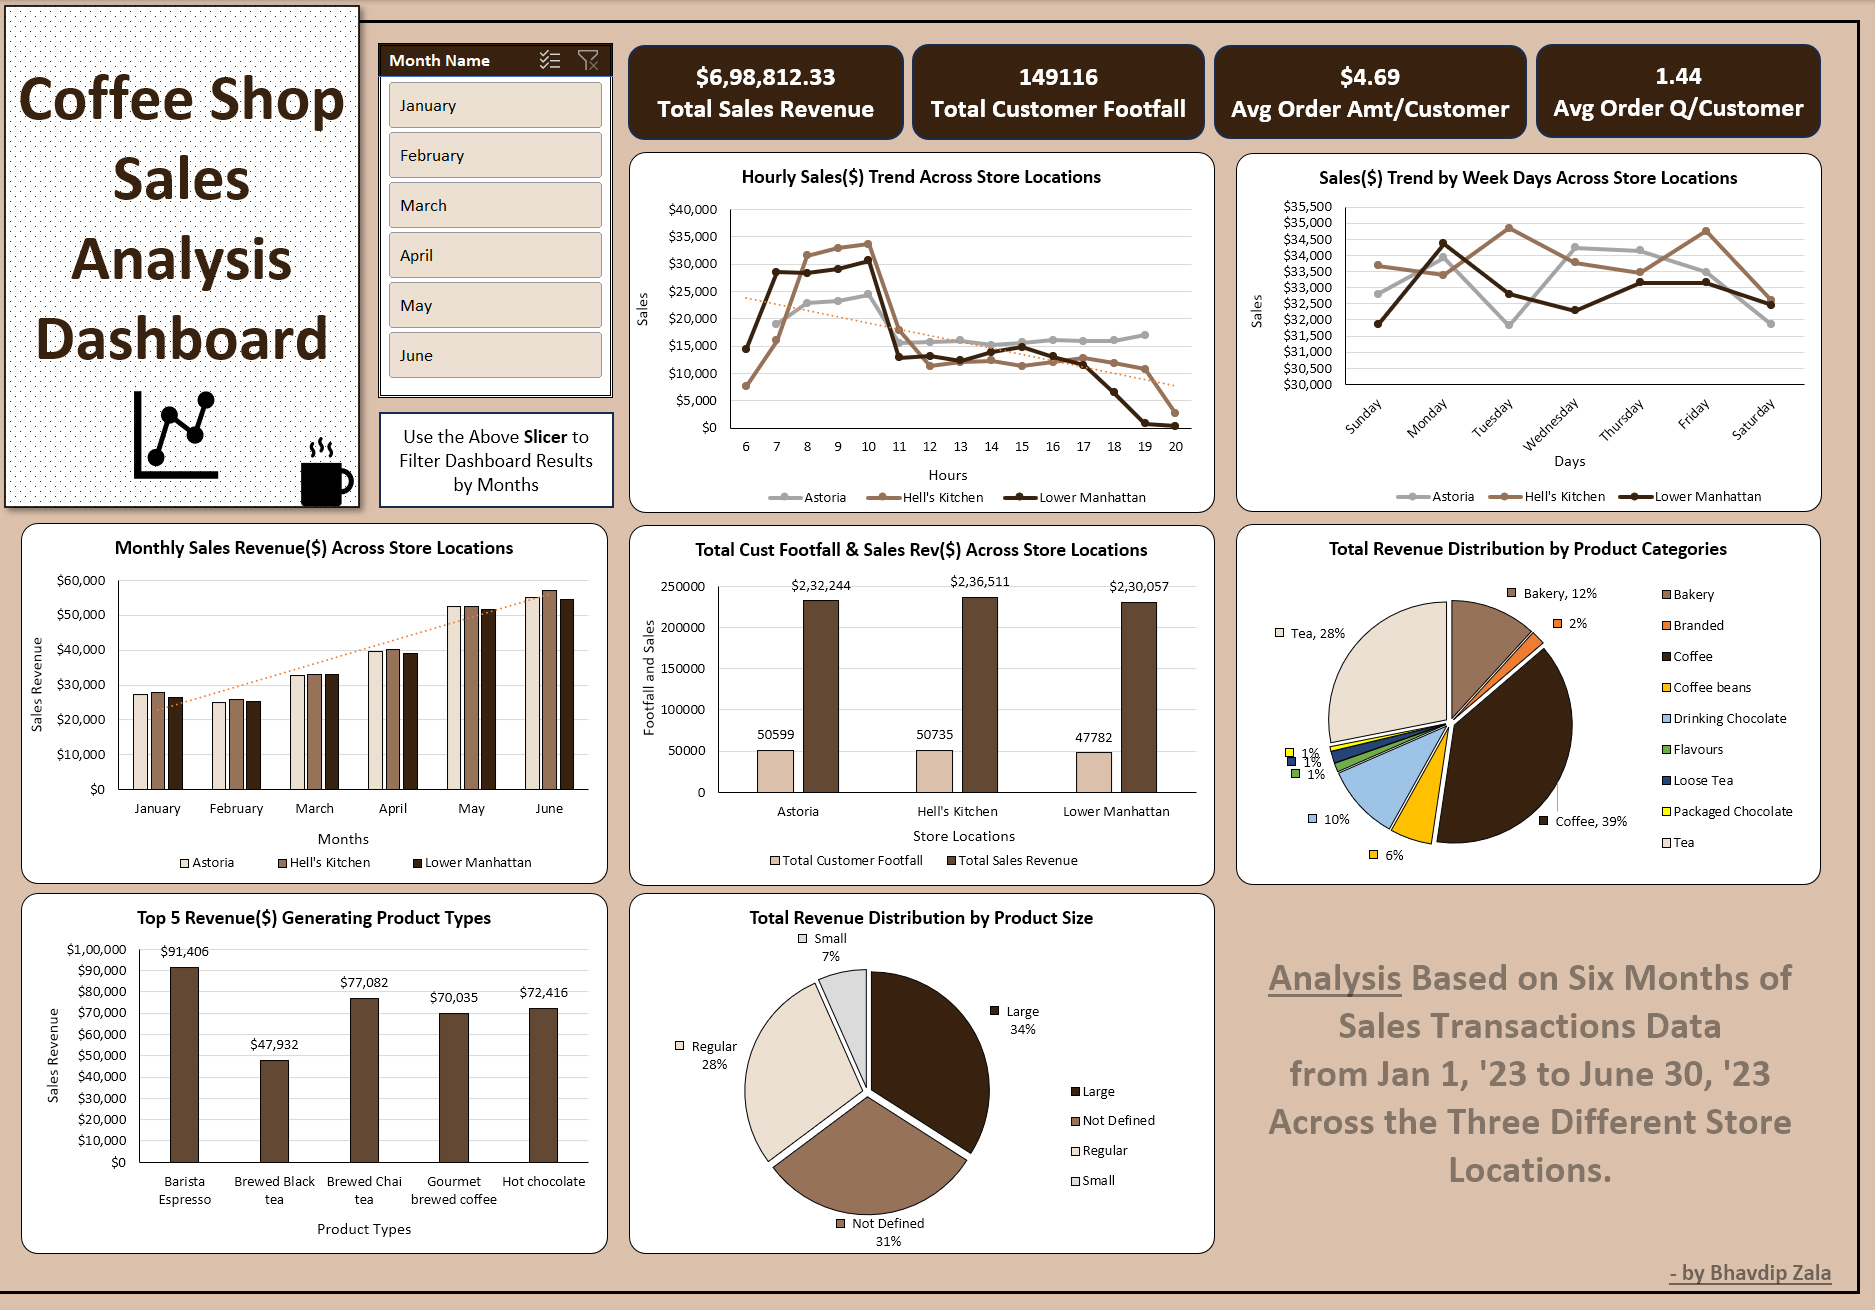

The dashboard page shown, as its layout file describes it:
{"tool":"powerbi","page":{"name":"Dashboard","canvas":[1745,1025],"ordinal":0},"visuals":[{"type":"shape","box":[0,166.2,15.4,853],"z":0},{"type":"shape","box":[300,5,1438,20],"z":1000},{"type":"shape","box":[1305,25,425,420],"z":2000},{"type":"shape","box":[885,455,845,555],"z":3000},{"type":"shape","box":[15,185,855,780],"z":4000},{"type":"textbox","box":[3,5,302,170],"z":5000},{"type":"shape","title":"Key Performance Indicators (KPIs)","box":[330,25,965,140],"z":6000},{"type":"image","box":[0,115,70,75],"z":7000},{"type":"cardVisual","fields":{"Data":["Measures_.Avg Quantity Ordered"]},"box":[837,51,246,109],"z":8000},{"type":"donutChart","fields":{"Y":["Measures_.testkpi"],"Category":["dim_dates.weekday_or_weekend"]},"box":[455,700,410,260],"z":9000},{"type":"cardVisual","fields":{"Data":["Measures_.Avg Order Value"]},"box":[1088,51.1,202,108.9],"z":10000},{"type":"lineChart","fields":{"Series":["dim_stores.store_location"],"Category":["fact_transactions.Hour"],"Y":["Measures_.testkpi"]},"box":[20,435,430,260],"z":11000},{"type":"cardVisual","fields":{"Data":["Measures_.Total Transactions"]},"box":[586,50.6,246,109.4],"z":12000},{"type":"columnChart","fields":{"Category":["dim_dates.weekday_name"],"Y":["Measures_.testkpi"]},"box":[455,435,410,260],"z":13000},{"type":"cardVisual","fields":{"Data":["Measures_.Total Sales Revenue"]},"box":[335.8,50,246,109.4],"z":14000},{"type":"clusteredColumnChart","fields":{"Category":["dim_dates.month_name"],"Y":["Measures_.testkpi"]},"box":[20,700,430,260],"z":15000},{"type":"cardVisual","fields":{"Data":["Measures_.Month on Month Sales Revenue"]},"box":[360,121.3,232.4,31.6],"z":16000},{"type":"cardVisual","fields":{"Data":["Measures_.MoM Sales Orders"]},"box":[611,121,232.2,31],"z":17000},{"type":"donutChart","fields":{"Category":["dim_stores.store_location"],"Y":["Measures_.testkpi"]},"box":[885,185,410,260],"z":18000},{"type":"cardVisual","fields":{"Data":["Measures_.MoM AOV"]},"box":[1113,121,174.4,31],"z":19000},{"type":"columnChart","fields":{"Category":["dim_dates.Date.Variation.Date Hierarchy.Day"],"Y":["Measures_.testkpi"]},"box":[20,210,845.7,220],"z":20000},{"type":"cardVisual","fields":{"Data":["Measures_.MoM AQO"]},"box":[862,121,232,31],"z":21000},{"type":"barChart","fields":{"Category":["dim_products.product_detail"],"Y":["Measures_.testkpi"]},"box":[890,480,420,525],"z":22000},{"type":"treemap","fields":{"Group":["dim_products.product_category"],"Values":["Measures_.testkpi"]},"box":[1315,480,410,260],"z":23000},{"type":"pieChart","fields":{"Category":["dim_products.product_size"],"Y":["Measures_.testkpi"]},"box":[1315,745,410,260],"z":24000},{"type":"shape","title":"Filters","box":[1315,35,405,400],"z":25000},{"type":"slicer","title":"Select Year","fields":{"Values":["dim_dates.year"]},"box":[1332,73,180,77],"z":26000},{"type":"advancedSlicerVisual","title":"Select Store(s)","fields":{"Values":["dim_stores.store_location"]},"box":[1332,166,180,162.9],"z":27000},{"type":"advancedSlicerVisual","title":"Analyse Sales By","fields":{"Values":["selected_metric.Analyse Sales By"]},"box":[1522.9,165.7,180,162.9],"z":28000},{"type":"shape","box":[614,252,251,18],"z":29000},{"type":"card","fields":{"Values":["Measures_.testkpi"]},"box":[1034,293,112,62],"z":30000},{"type":"slicer","title":"Select Month(s)","fields":{"Values":["dim_dates.month_name"]},"box":[1523,73,180,77],"z":31000},{"type":"shape","box":[1328.6,318.6,384.3,40],"z":32000},{"type":"cardVisual","title":"Showing results for","fields":{"Data":["Measures_.current filters"]},"box":[1325,346.7,393.3,108.3],"z":33000},{"type":"shape","box":[1253,338.6,300,31.4],"z":34000},{"type":"shape","box":[23.6,495,23.6,119.1],"z":35000},{"type":"shape","box":[458,495,23.6,119.1],"z":36000},{"type":"textbox","box":[635,990,261.4,30],"z":37000},{"type":"shape","box":[1730,14,15,1005],"z":38000},{"type":"shape","box":[6,1010,1731,15.4],"z":39000}]}

Visuals, with their boxes on the page's 1745x1025 design canvas (x1, y1, x2, y2). These are canvas units, not pixel positions in the 1875x1310 screenshot, which may show the page scaled, cropped or inside an application window:
shape: [0, 166, 15, 1019]
shape: [300, 5, 1738, 25]
shape: [1305, 25, 1730, 445]
shape: [885, 455, 1730, 1010]
shape: [15, 185, 870, 965]
textbox: [3, 5, 305, 175]
"Key Performance Indicators (KPIs)" shape: [330, 25, 1295, 165]
image: [0, 115, 70, 190]
cardVisual - Measures_.Avg Quantity Ordered: [837, 51, 1083, 160]
donutChart - Measures_.testkpi x dim_dates.weekday_or_weekend: [455, 700, 865, 960]
cardVisual - Measures_.Avg Order Value: [1088, 51, 1290, 160]
lineChart - dim_stores.store_location x fact_transactions.Hour: [20, 435, 450, 695]
cardVisual - Measures_.Total Transactions: [586, 51, 832, 160]
columnChart - dim_dates.weekday_name x Measures_.testkpi: [455, 435, 865, 695]
cardVisual - Measures_.Total Sales Revenue: [336, 50, 582, 159]
clusteredColumnChart - dim_dates.month_name x Measures_.testkpi: [20, 700, 450, 960]
cardVisual - Measures_.Month on Month Sales Revenue: [360, 121, 592, 153]
cardVisual - Measures_.MoM Sales Orders: [611, 121, 843, 152]
donutChart - dim_stores.store_location x Measures_.testkpi: [885, 185, 1295, 445]
cardVisual - Measures_.MoM AOV: [1113, 121, 1287, 152]
columnChart - dim_dates.Date.Variation.Date Hierarchy.Day x Measures_.testkpi: [20, 210, 866, 430]
cardVisual - Measures_.MoM AQO: [862, 121, 1094, 152]
barChart - dim_products.product_detail x Measures_.testkpi: [890, 480, 1310, 1005]
treemap - dim_products.product_category x Measures_.testkpi: [1315, 480, 1725, 740]
pieChart - dim_products.product_size x Measures_.testkpi: [1315, 745, 1725, 1005]
"Filters" shape: [1315, 35, 1720, 435]
"Select Year" slicer: [1332, 73, 1512, 150]
"Select Store(s)" advancedSlicerVisual: [1332, 166, 1512, 329]
"Analyse Sales By" advancedSlicerVisual: [1523, 166, 1703, 329]
shape: [614, 252, 865, 270]
card - Measures_.testkpi: [1034, 293, 1146, 355]
"Select Month(s)" slicer: [1523, 73, 1703, 150]
shape: [1329, 319, 1713, 359]
"Showing results for" cardVisual: [1325, 347, 1718, 455]
shape: [1253, 339, 1553, 370]
shape: [24, 495, 47, 614]
shape: [458, 495, 482, 614]
textbox: [635, 990, 896, 1020]
shape: [1730, 14, 1745, 1019]
shape: [6, 1010, 1737, 1025]
